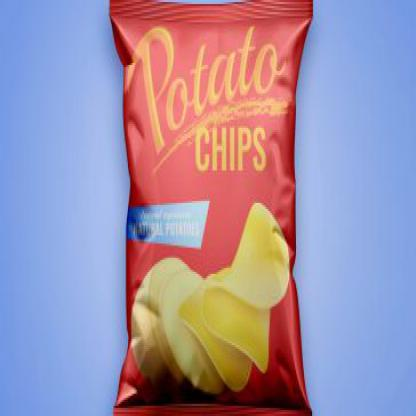potatochip: (108, 0, 317, 414)
